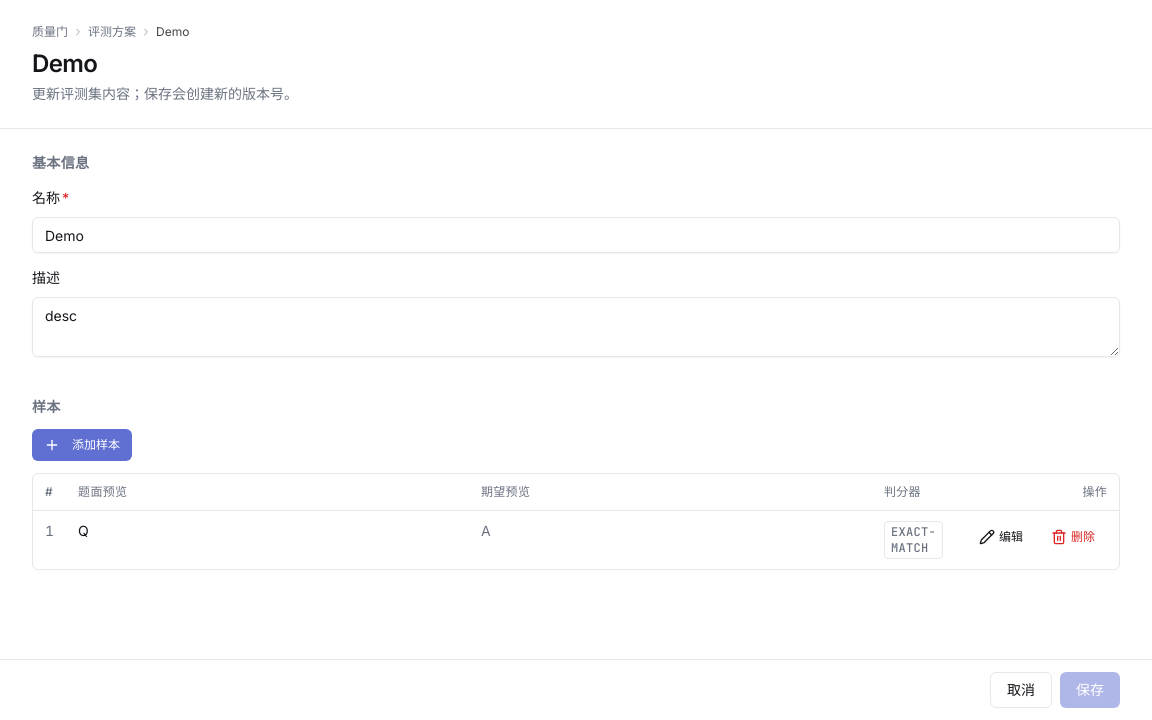
Test: EvaluationDetailPage › clicking row Edit opens drawer with full sample editor
Click the button "编辑": (1001, 536) [967,520,1035,552]
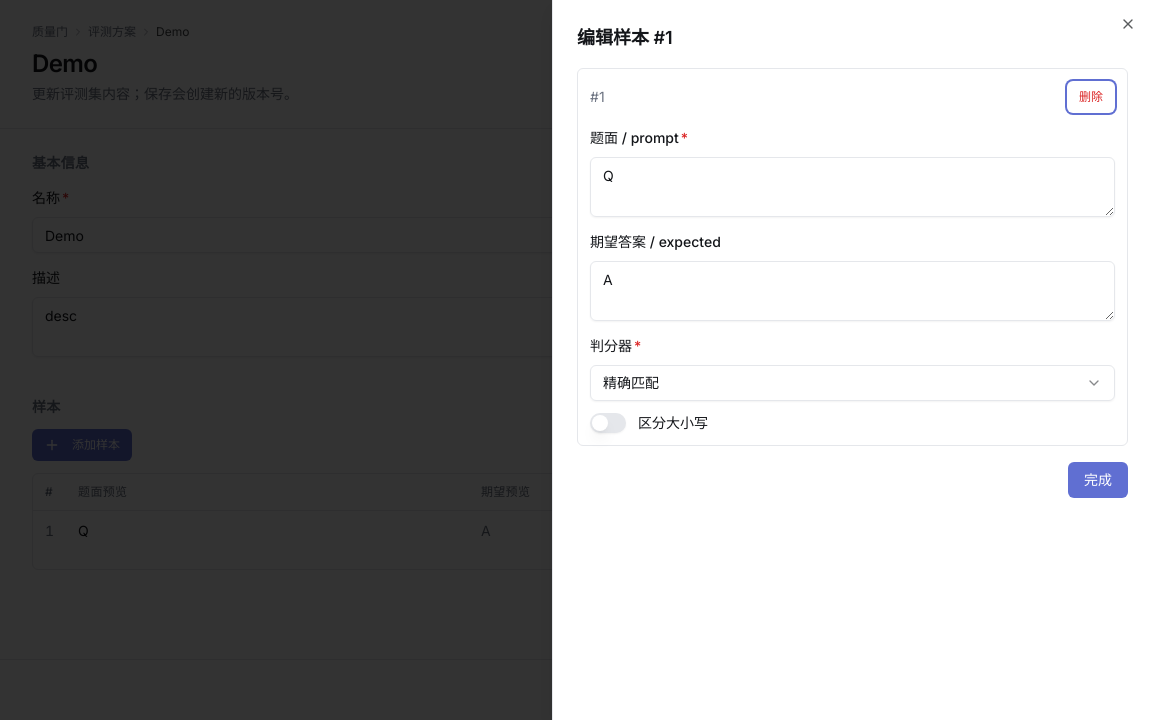
Check: the text box showing "Q" is shown, box [590,157,1115,217]
Check: the text box showing "A" is shown, box [590,261,1115,321]
